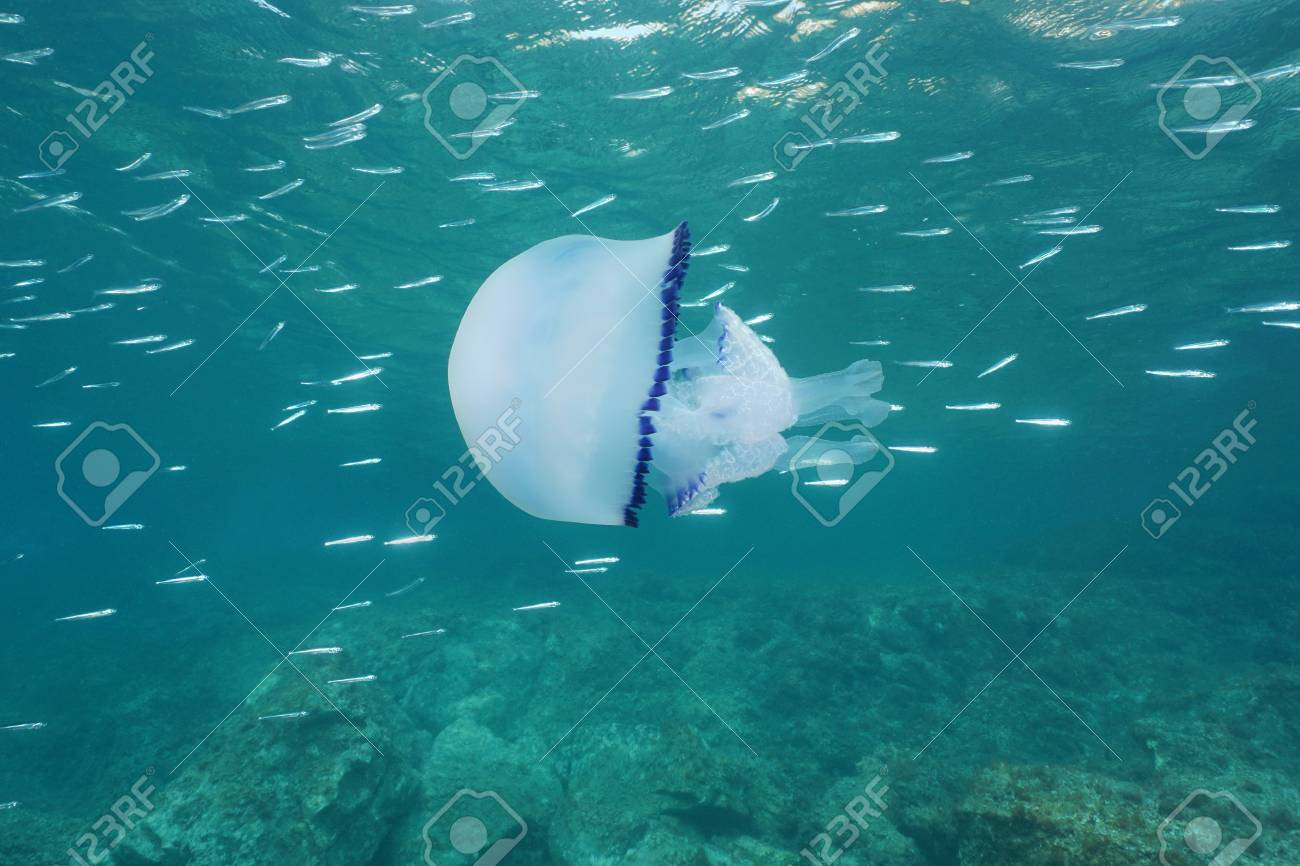jellyfish: (442, 219, 887, 534)
